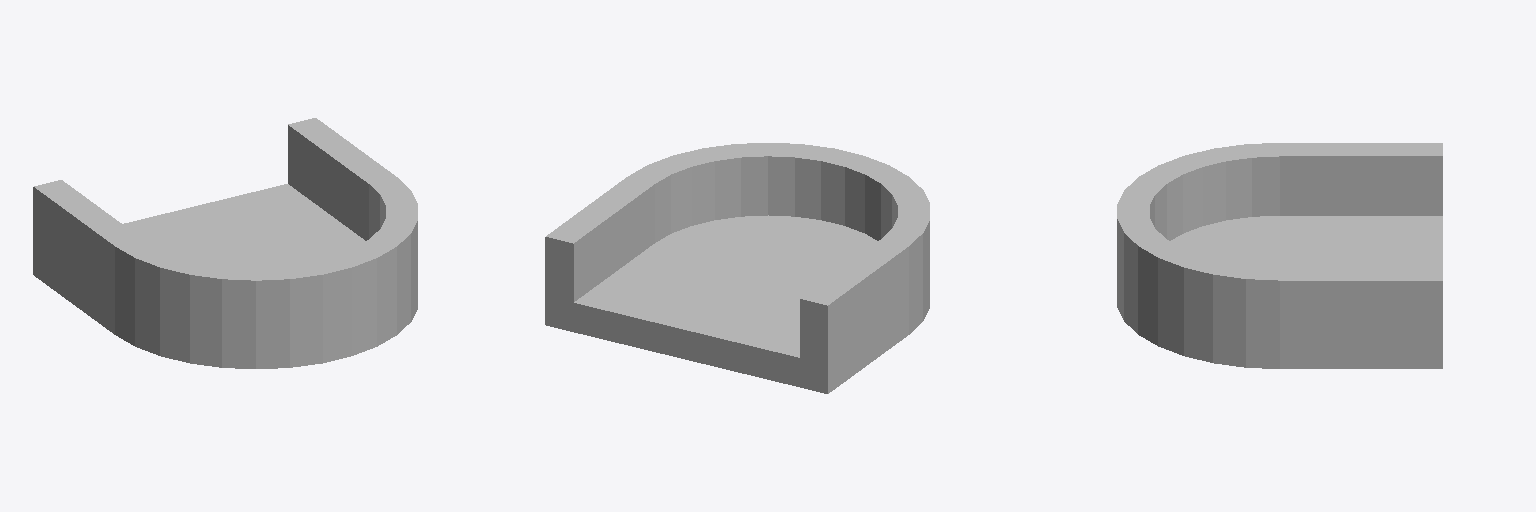
The model's file is Start.obj.
3 renders of one model, left to right at view 1: azimuth 30°, elevation 25°; view 2: azimuth 150°, elevation 25°; view 3: azimuth 270°, elevation 25°, orthographic.
Visible parts, largest first — view 1: Start; view 2: Start; view 3: Start.
Boxes of the visible parts, <box> form: Start: <box>33,118,417,368</box>; Start: <box>545,143,929,393</box>; Start: <box>1117,143,1442,368</box>.
Bounding box in the file's own units: 2 × 0.6 × 1.99.